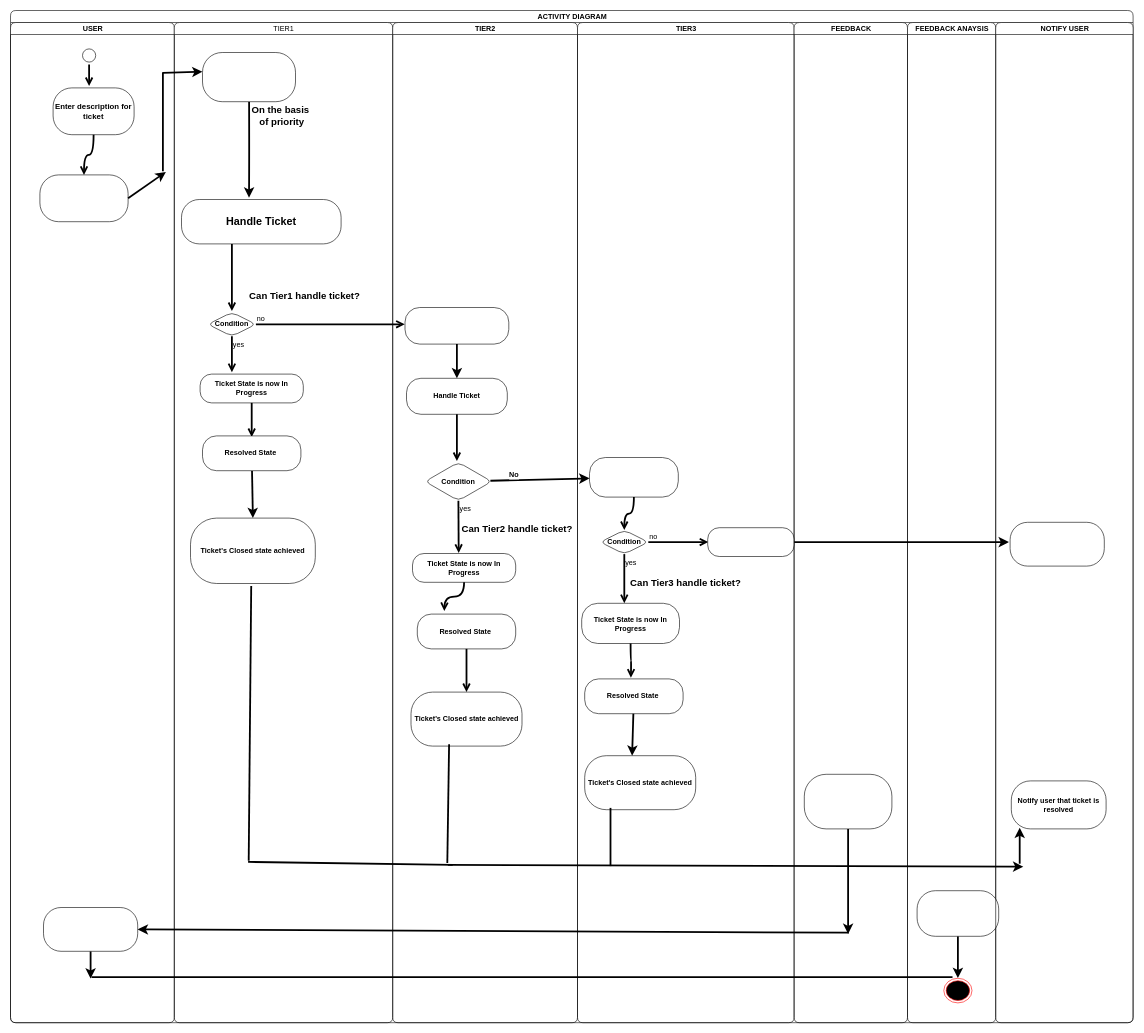
This 1144x1033 diagram has some shape labels left out. Here are the shapes that lost their labels. From the top down, the centre of each, then its label:
At pixel 249 77: "Evaluate Ticket".
At pixel 83 198: "Ticket created and passed to Tier1".
At pixel 456 325: "Control passed to Tier2".
At pixel 633 477: "Control passed to Tier 3".
At pixel 750 541: "Cannot resolve Ticket".
At pixel 1057 544: "Notify user that ticket is Unresolved".
At pixel 848 801: "Request User feedback".
At pixel 90 929: "User gives feedback".
At pixel 957 913: "Feedback is Analyzed on the basis of positive and negative feedback".
